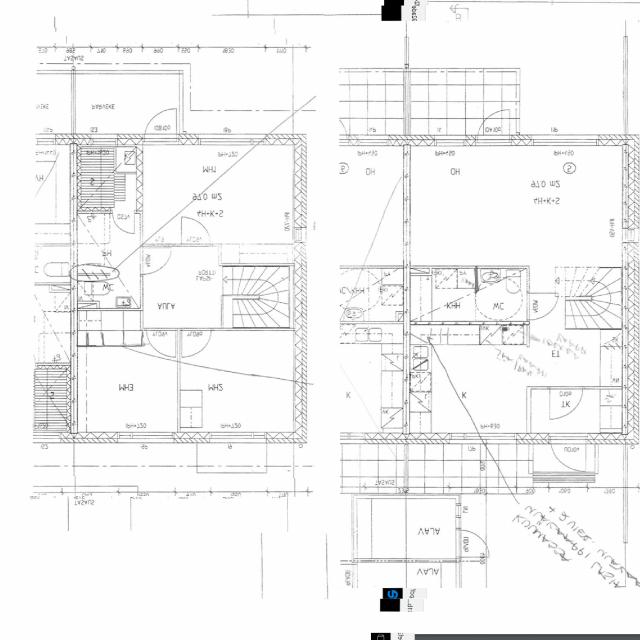door: (551, 433, 586, 476), (144, 104, 177, 144), (478, 105, 510, 146), (550, 386, 583, 419), (456, 529, 490, 557), (182, 328, 211, 357), (147, 328, 176, 357), (526, 293, 558, 319), (181, 218, 210, 246), (140, 248, 171, 273), (113, 206, 134, 232)
